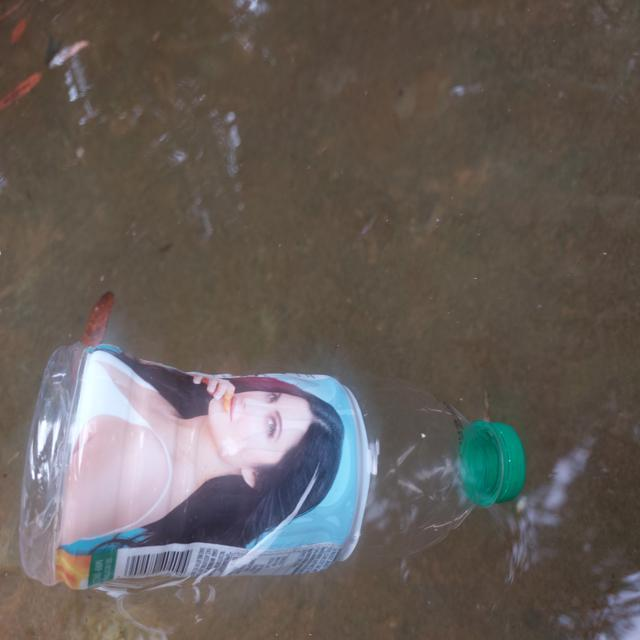leaf: (74, 283, 126, 344), (4, 71, 45, 126), (0, 4, 54, 39)
waterbottle: (18, 346, 525, 600)
